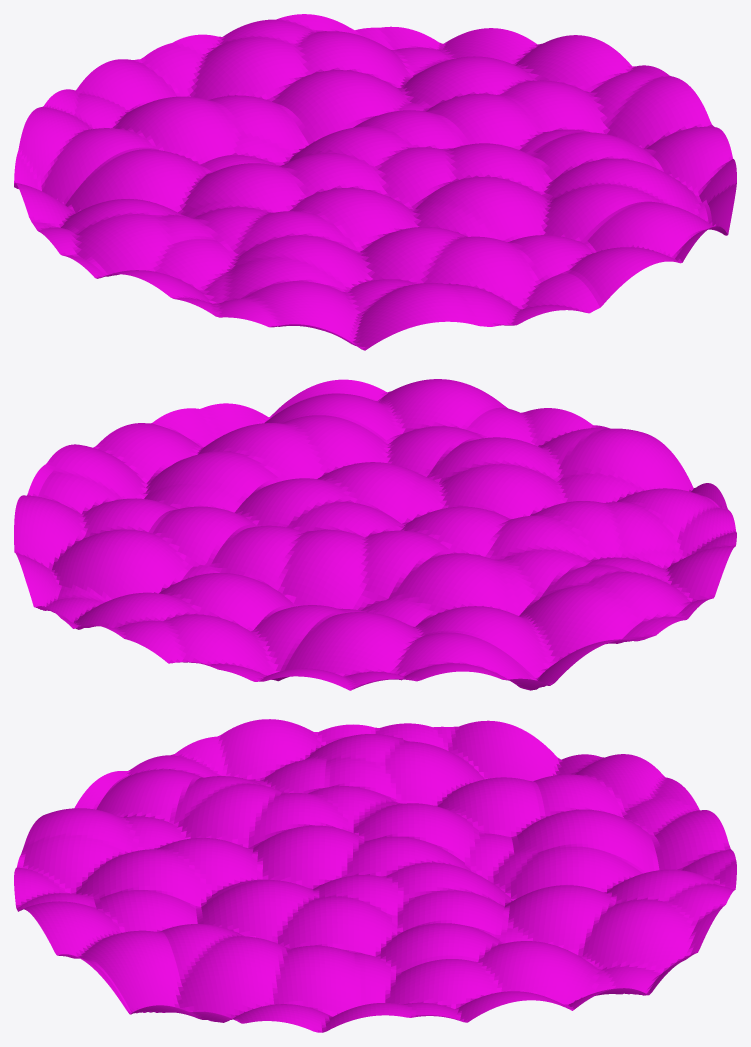
Rendered from cauldron 2.fbx.
3 renders of one model, top to bottom at view 1: azimuth 30°, elevation 25°; view 2: azimuth 150°, elevation 25°; view 3: azimuth 270°, elevation 25°, orthographic.
Parts seen in each view (by area): view 1: Plane; view 2: Plane; view 3: Plane.
Boxes of the visible parts, bbox=[...] form: Plane: bbox=[14, 14, 736, 350]; Plane: bbox=[14, 379, 736, 690]; Plane: bbox=[14, 719, 736, 1032].
Size of the model in its own units: 159 by 10.79 by 159.
